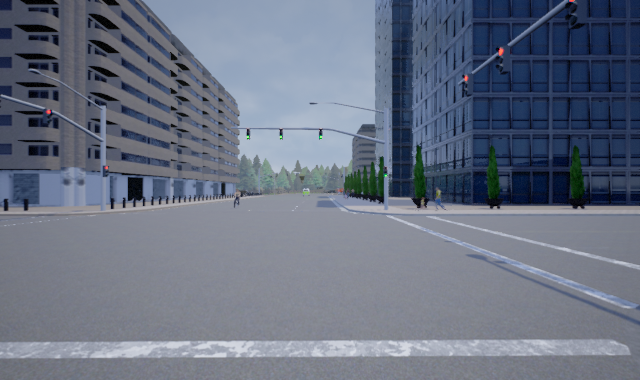bike: (233, 188, 242, 212)
pedestrian: (433, 185, 444, 211), (418, 196, 427, 211)
